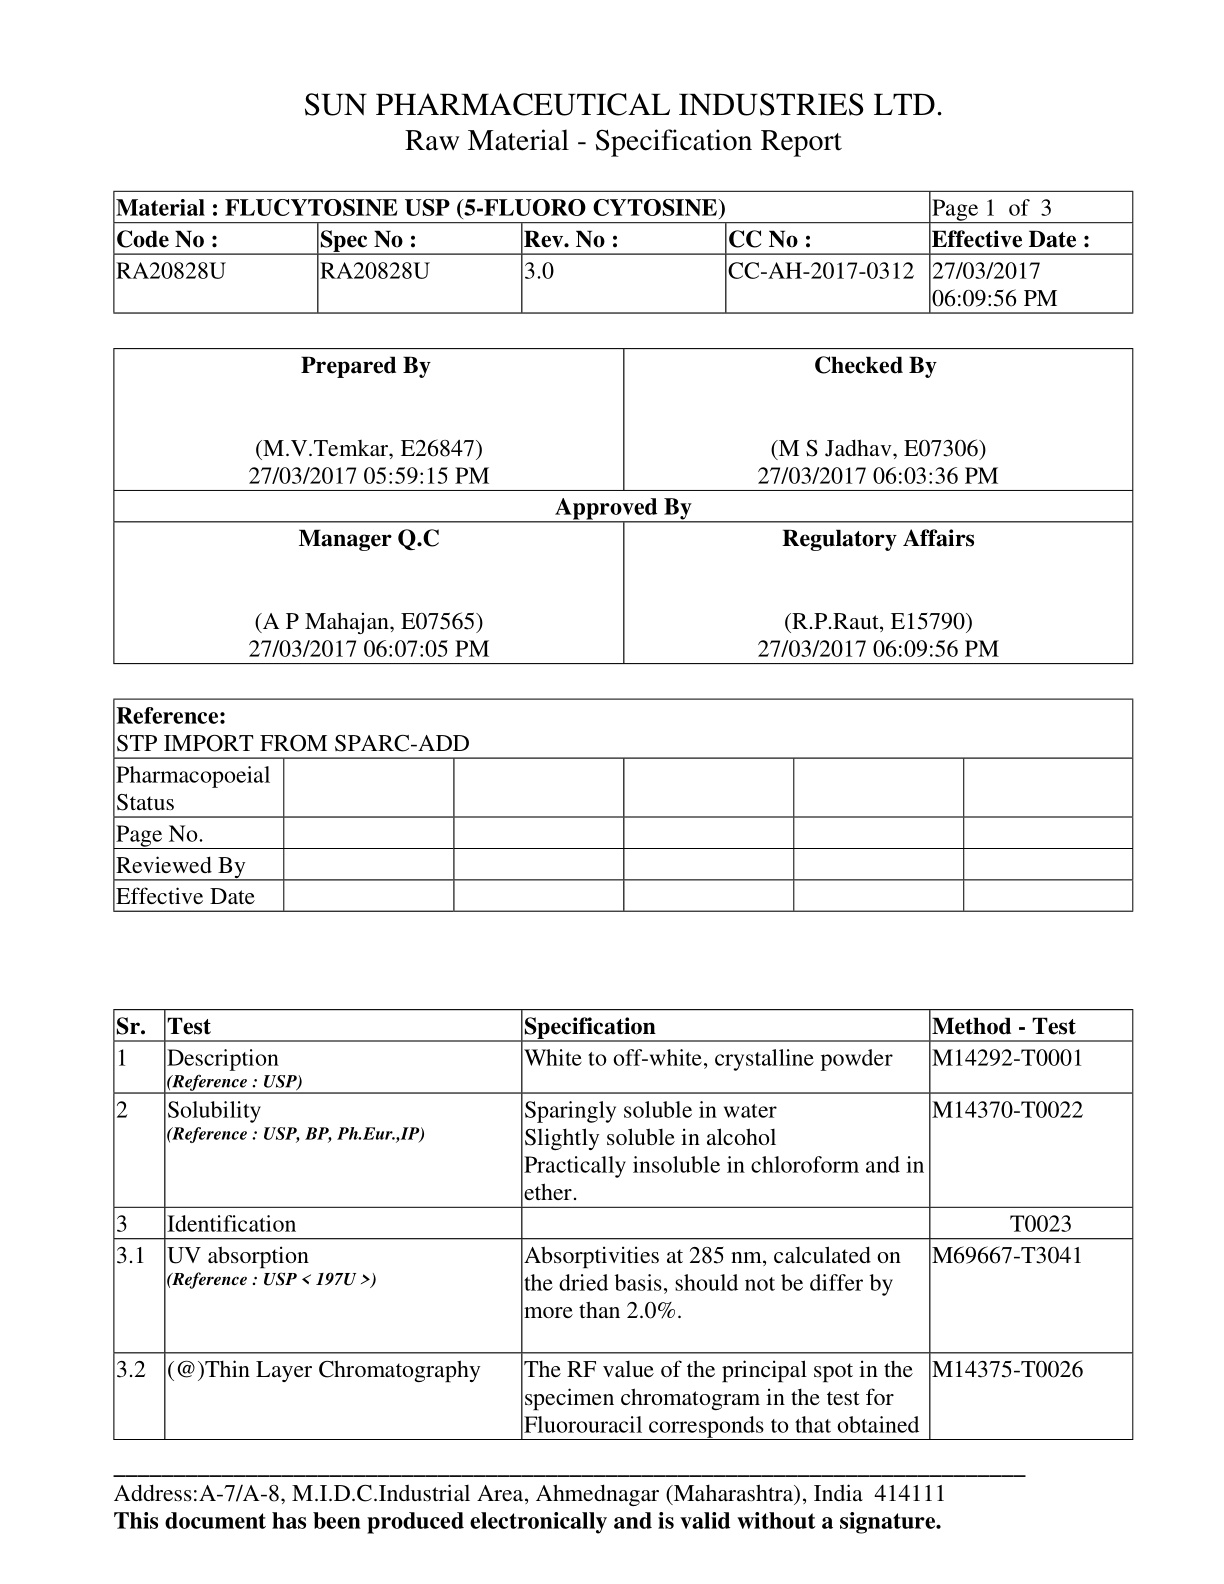full_lined: (111, 1007, 1135, 1441)
merged_cells: (112, 345, 1134, 666), (111, 697, 1134, 914), (111, 189, 1133, 315)
